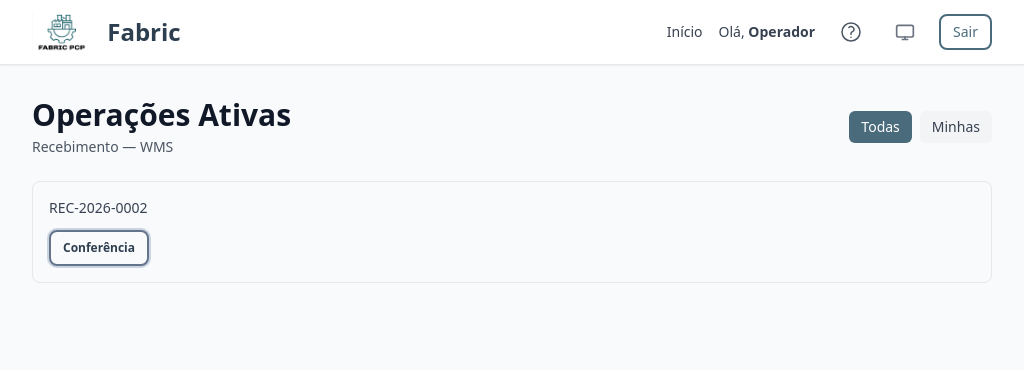
OperationsPanelView › erro em purchaseReceiptService.getById durante openAction mostra erro visível e não abre nenhum modal de ação
The image size is (1024, 370).
Click the button "Conferência" at {"x": 99, "y": 248}, box [49, 230, 149, 266]
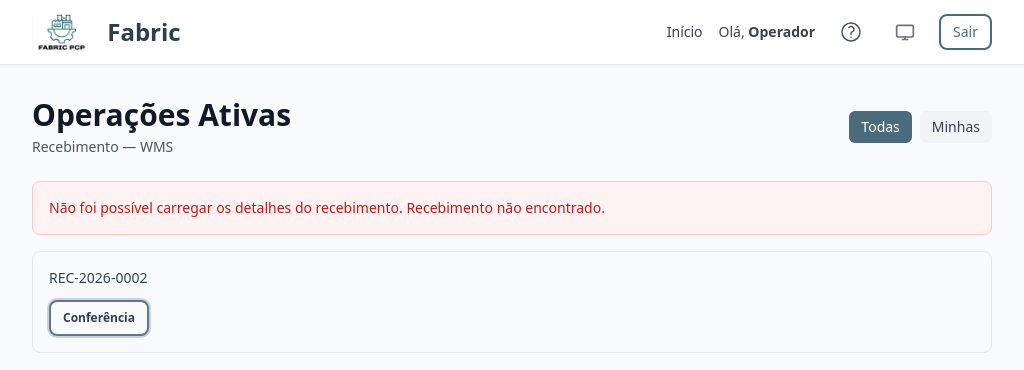
Now the text "Não foi possível carregar os detalhes do recebimento." is shown, box [49, 198, 605, 217]
Now the text "Recebimento não encontrado." is shown, box [49, 198, 605, 217]
